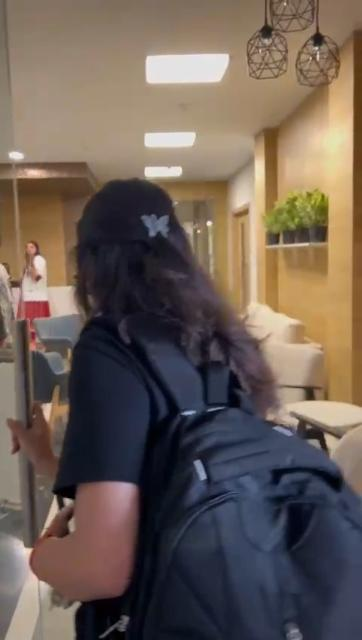moving-obj: (43, 176, 362, 640), (31, 232, 45, 372)
